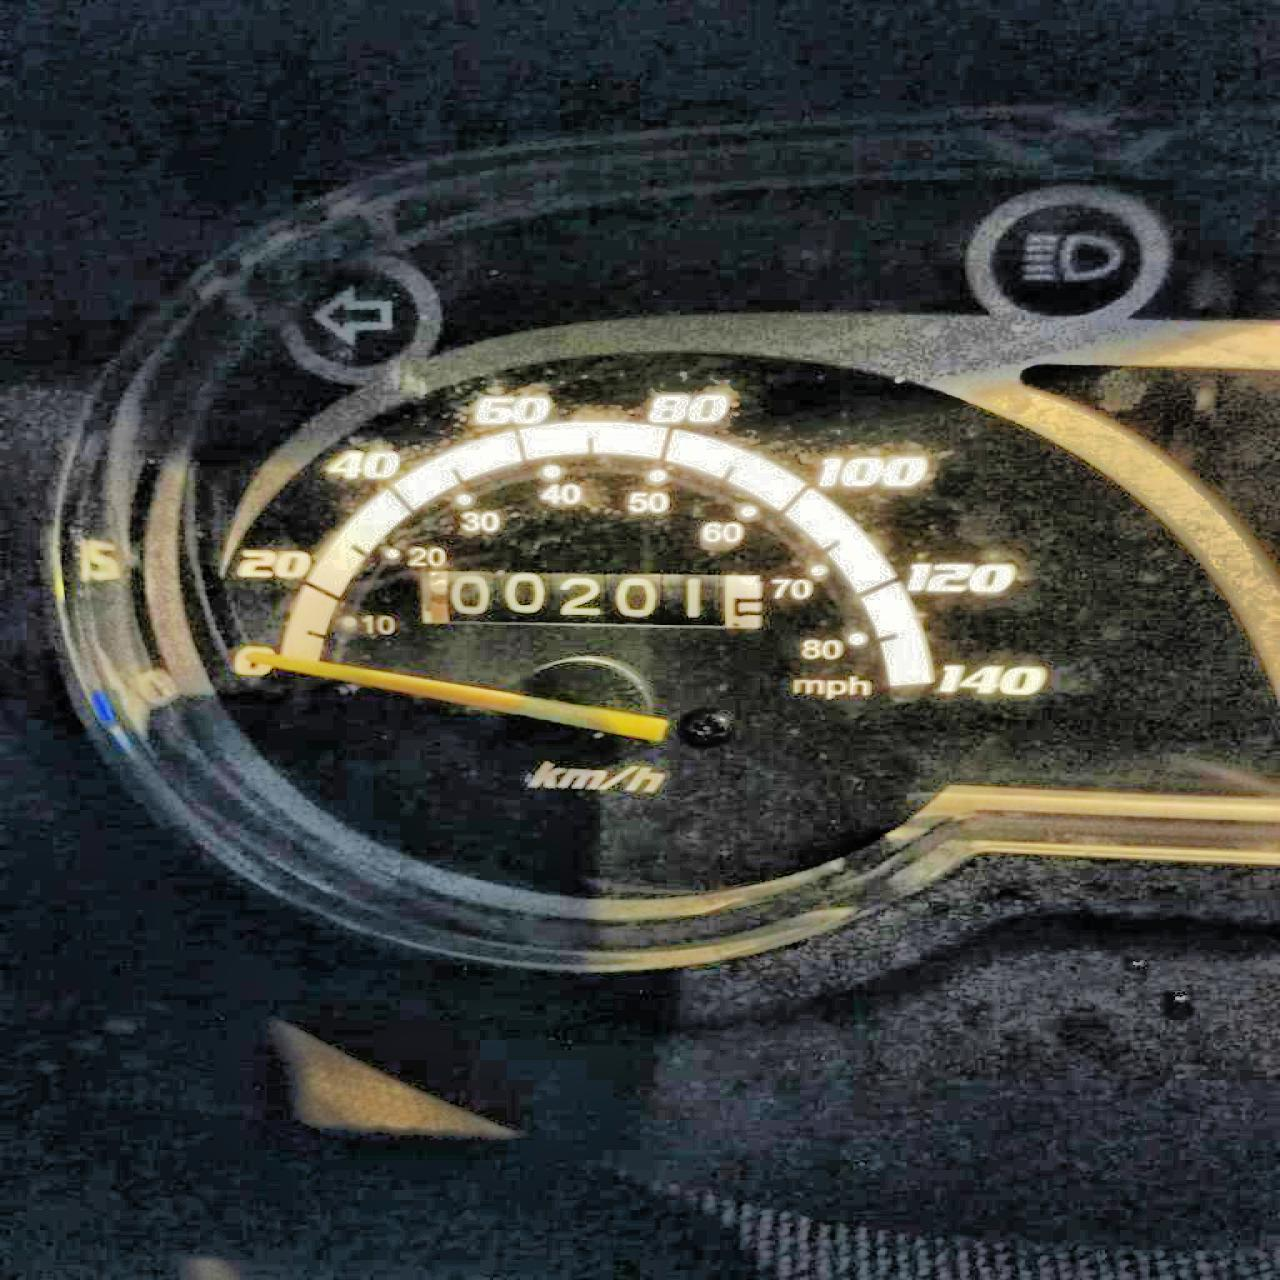0: (445, 570, 492, 619), (502, 566, 545, 618), (613, 571, 656, 619)
1: (675, 570, 707, 625)
2: (557, 570, 601, 619)
5: (729, 588, 769, 629)
odometer: (414, 561, 774, 639)
